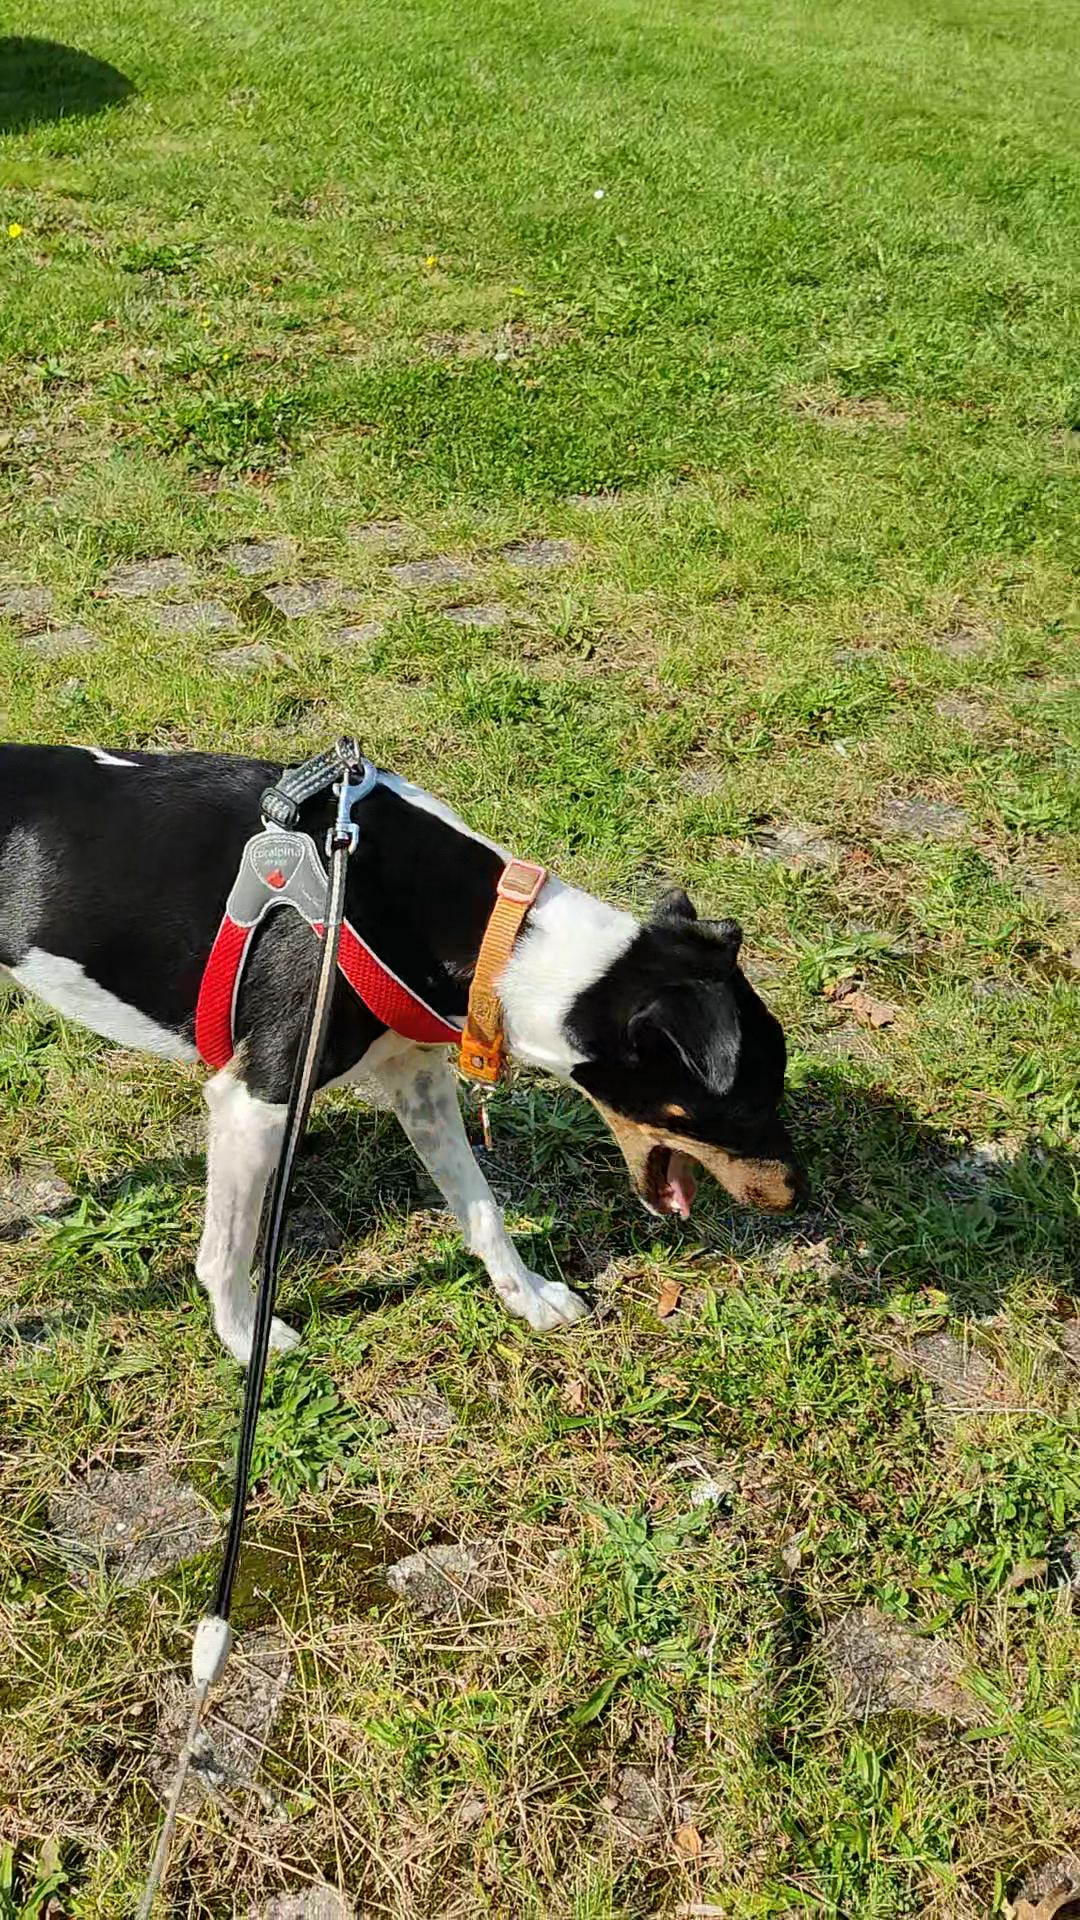Dog: (0, 727, 848, 1369)
